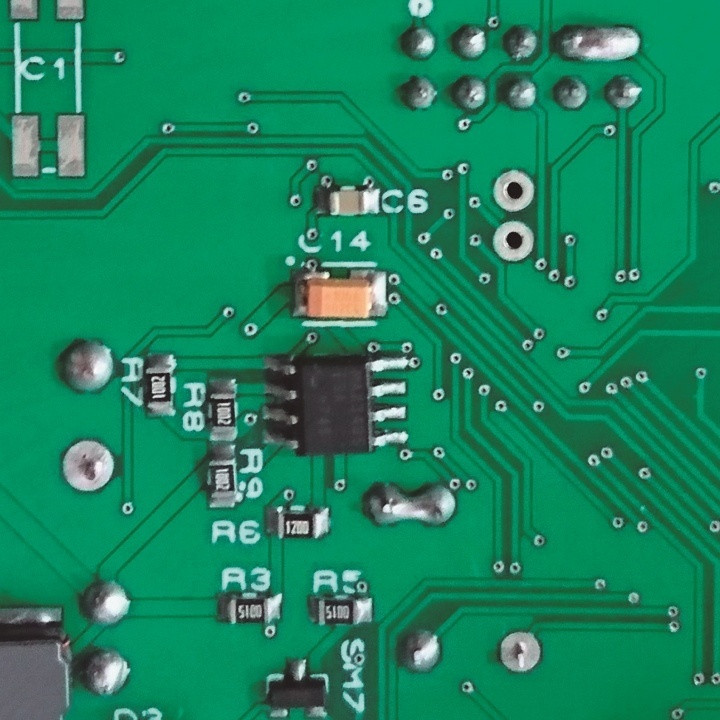F: (63, 436, 116, 495), (490, 220, 537, 267), (498, 630, 544, 676), (490, 171, 539, 214)
P: (366, 482, 458, 531), (557, 25, 644, 68)
